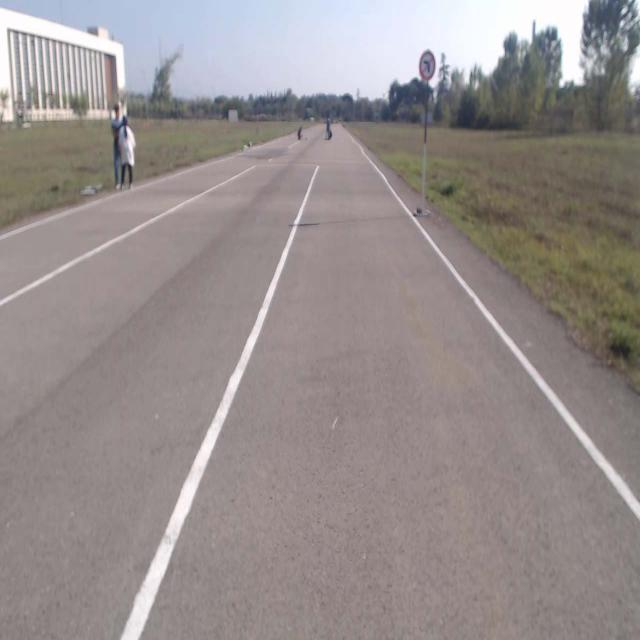soladonulmez: (419, 50, 435, 80)
